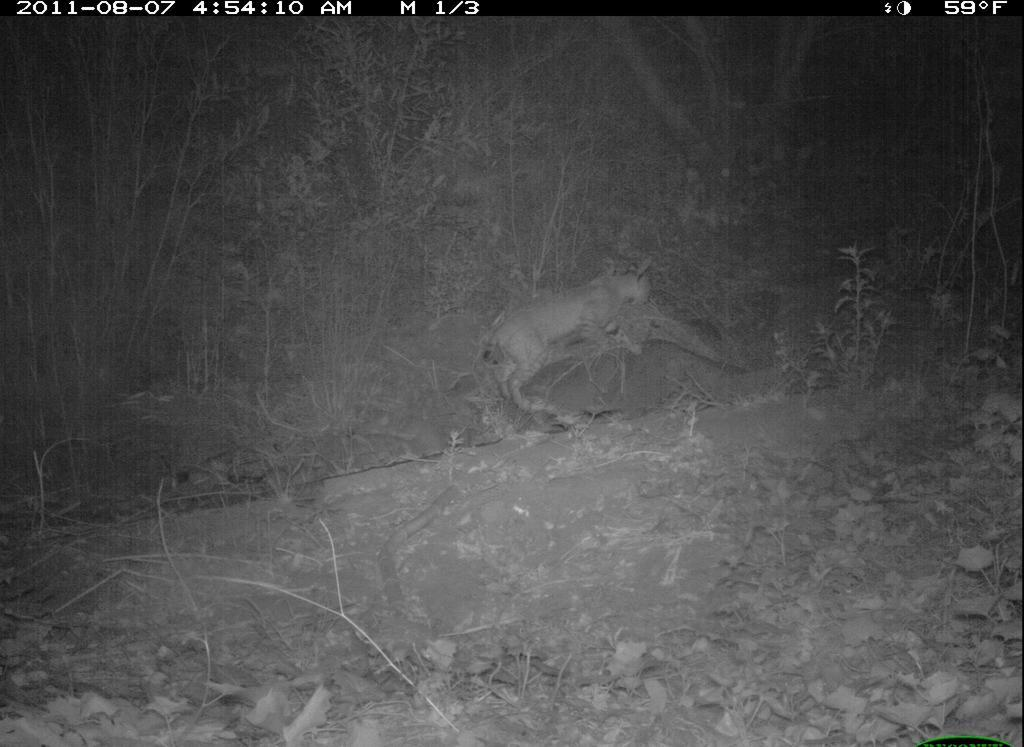bobcat: (469, 251, 698, 423)
